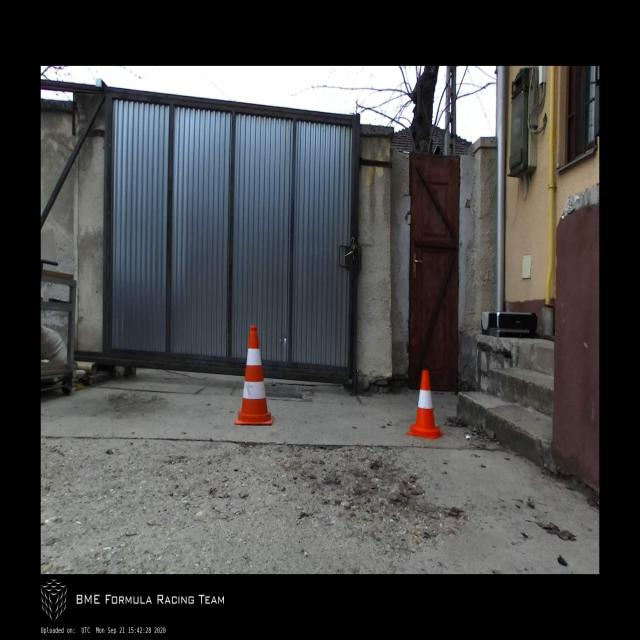large_orange_cone: (234, 326, 274, 426)
orange_cone: (407, 371, 444, 438)
